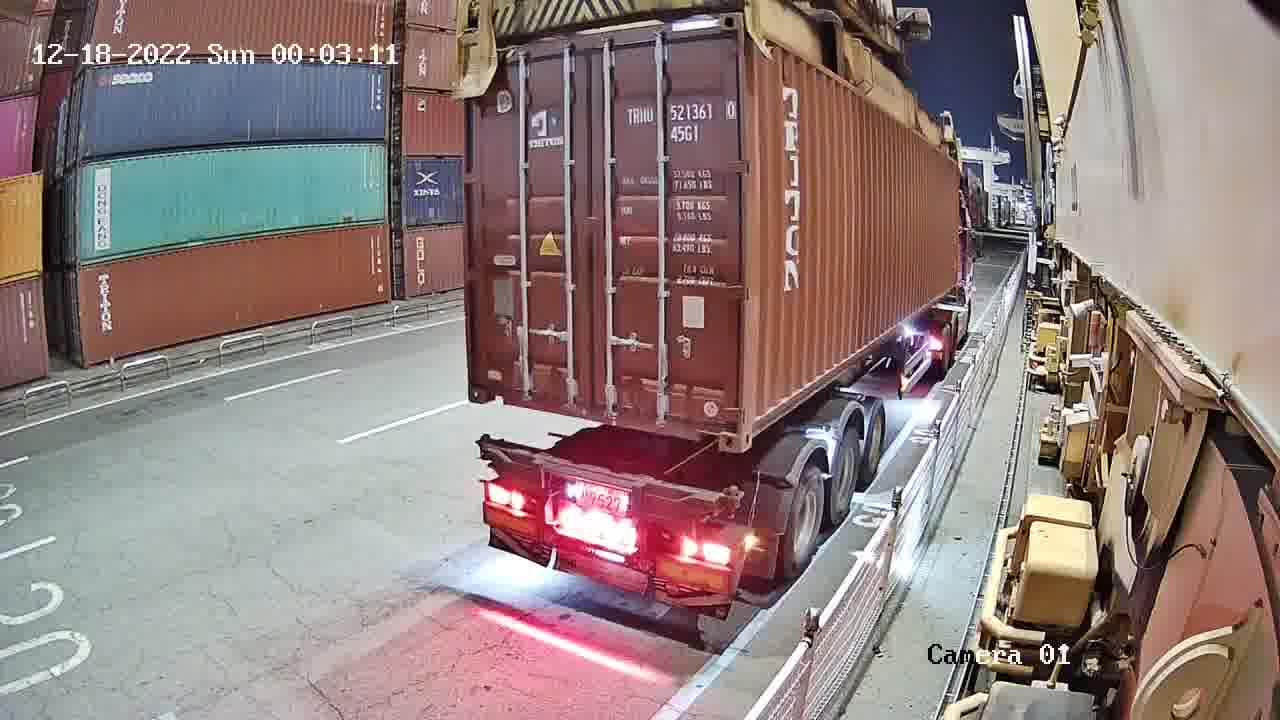Chassis: (483, 439, 729, 520)
Cone: (723, 480, 741, 521), (474, 431, 493, 464)
Hole_L: (742, 380, 773, 456), (470, 365, 511, 404)
Hole_R: (695, 395, 744, 455)
Tire: (781, 466, 825, 569), (832, 433, 862, 521)
